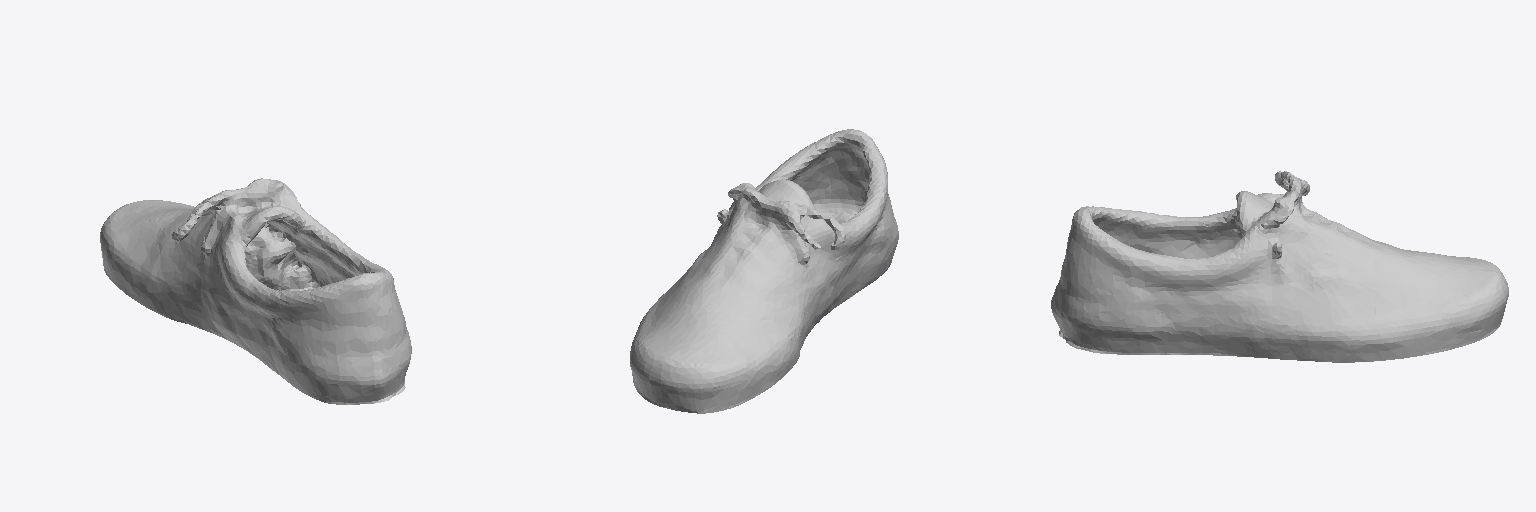
File: class7.obj
3 renders of one model, left to right at view 1: azimuth 30°, elevation 25°; view 2: azimuth 150°, elevation 25°; view 3: azimuth 270°, elevation 25°, orthographic.
Visible parts, largest first — view 1: Mesh_0.008; view 2: Mesh_0.008; view 3: Mesh_0.008.
Boxes of the visible parts, box(x1,y1,x2,y2) form: Mesh_0.008: box(100, 178, 411, 404); Mesh_0.008: box(630, 129, 898, 413); Mesh_0.008: box(1051, 171, 1508, 362).
Bounding box in the file's own units: 0.111 × 0.0923 × 0.277.